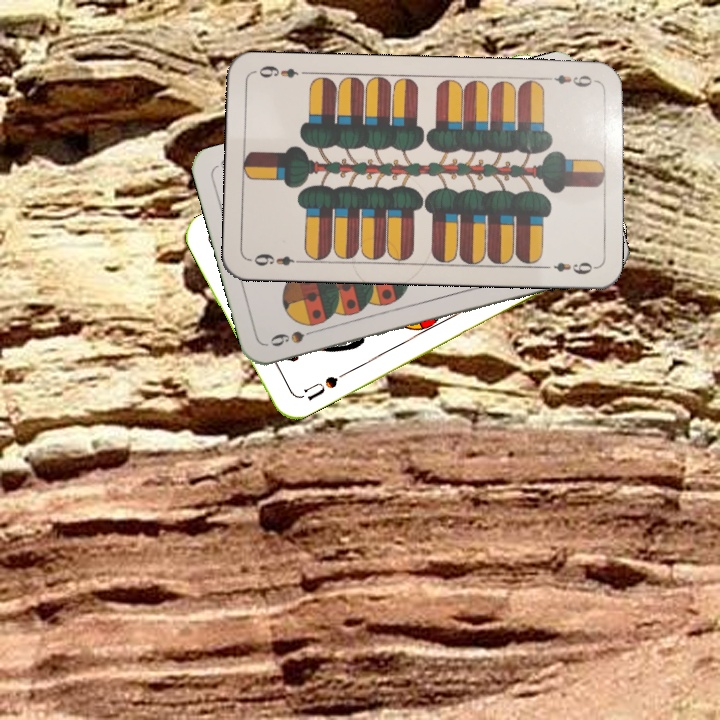E9: (542, 71, 601, 90), (250, 249, 306, 269)
S9: (266, 324, 323, 349)
SU: (299, 368, 348, 403)
